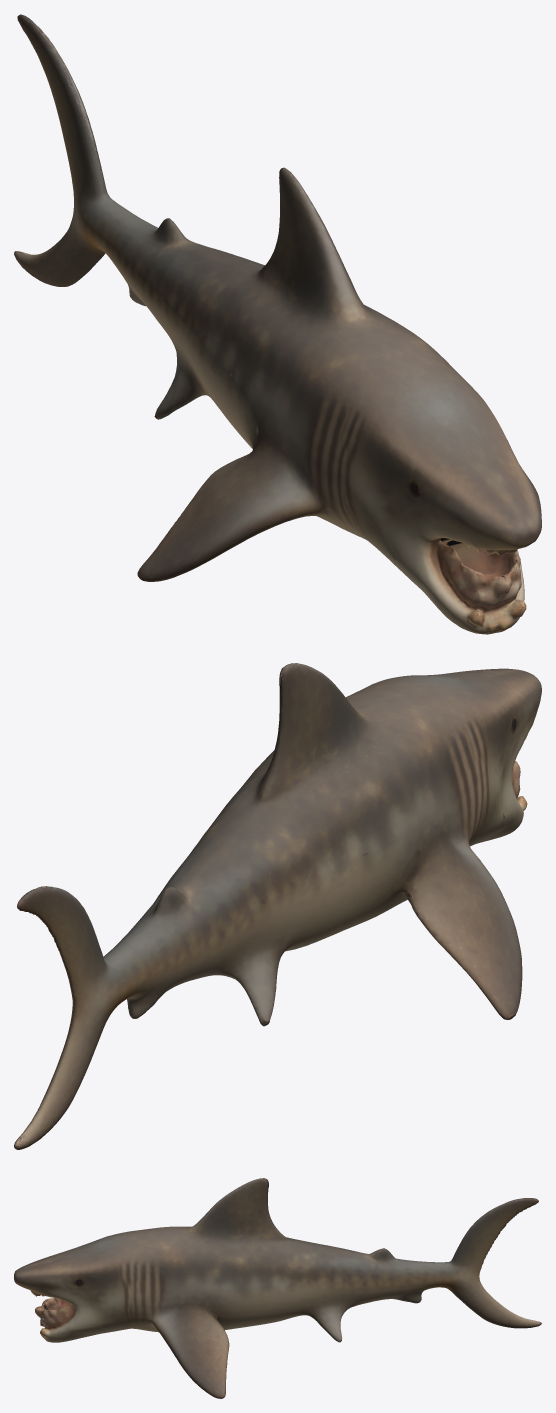
3 renders of one model, top to bottom at view 1: azimuth 30°, elevation 25°; view 2: azimuth 150°, elevation 25°; view 3: azimuth 270°, elevation 25°, orthographic. The views are drawn at different scales.
Parts seen in each view (by area): view 1: world; view 2: world; view 3: world.
Part boxes in pixels (<box>): world: <box>14,14,541,634</box>; world: <box>14,663,541,1149</box>; world: <box>14,1178,541,1398</box>.
Bounding box in the file's own units: 3.18 × 2.72 × 7.5.
1 material, 1 textured.
